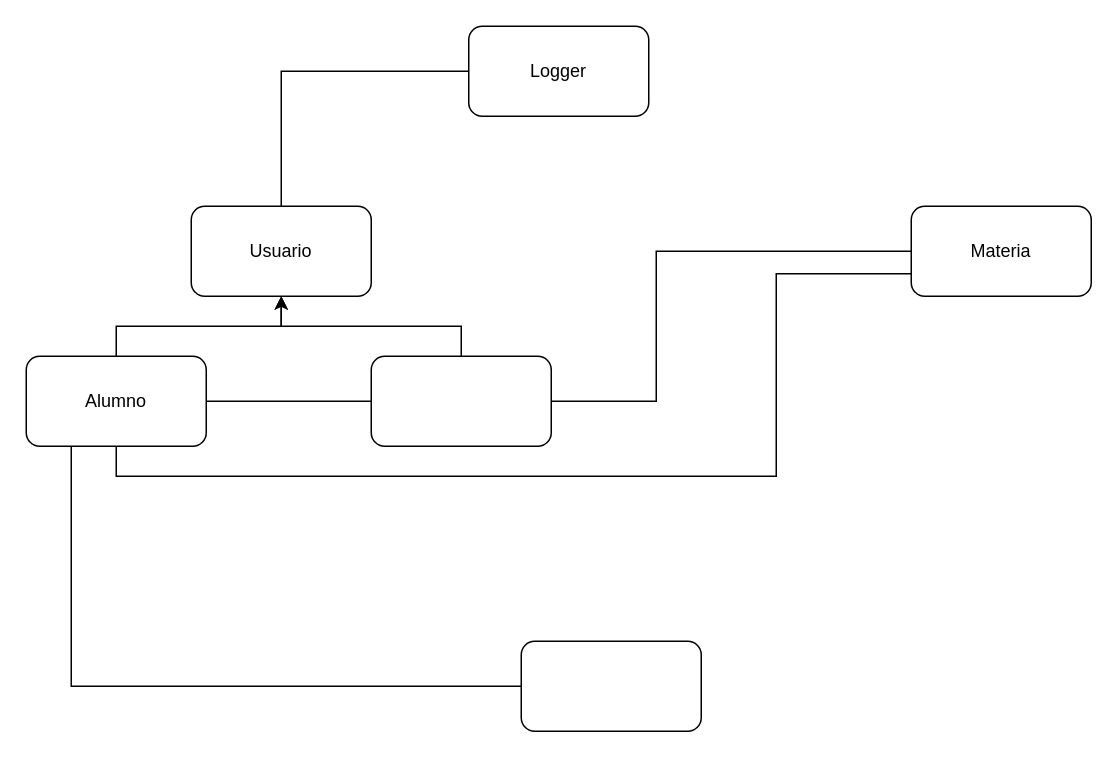
The diagram is 1118 pixels wide and 758 high, and some of its shapes have lost their labels. Each missing label, with the centre of its shape:
"PDF Manipulator" belongs at (610,685).
"Profesor" belongs at (460,400).
